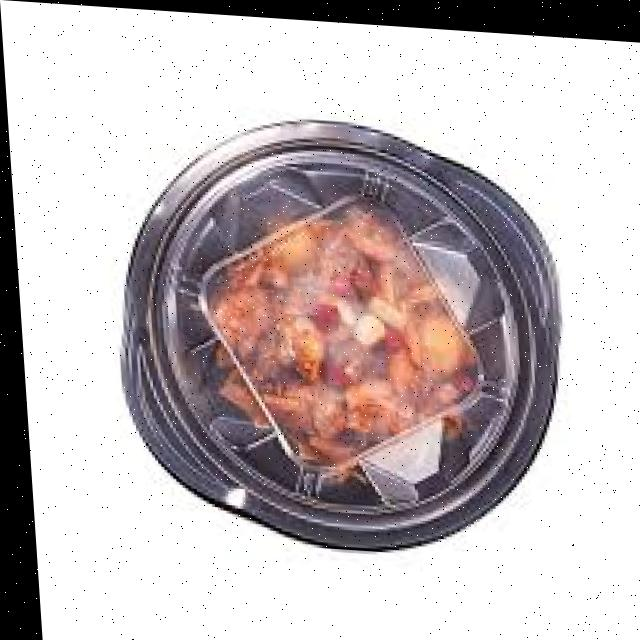disposable: (79, 63, 603, 578)
